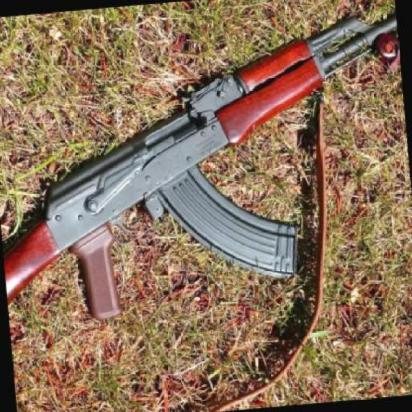Gun: (6, 21, 402, 320)
